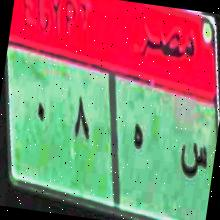0: (32, 89, 50, 134)
8: (67, 88, 96, 160)
haa: (124, 114, 149, 167)
seen: (174, 128, 216, 200)
